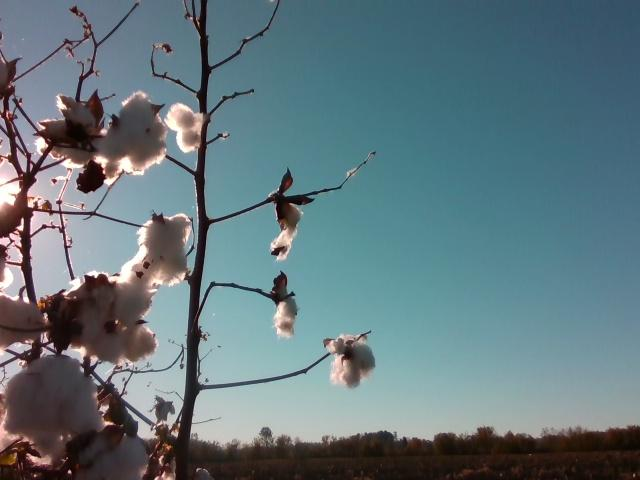cotton_ready: (6, 357, 105, 465), (65, 280, 156, 362), (102, 92, 168, 174), (37, 92, 104, 167), (121, 214, 191, 285), (75, 436, 151, 480), (328, 332, 377, 389), (0, 292, 47, 348), (164, 103, 204, 154), (269, 202, 302, 263), (0, 190, 26, 233), (274, 297, 300, 340)
